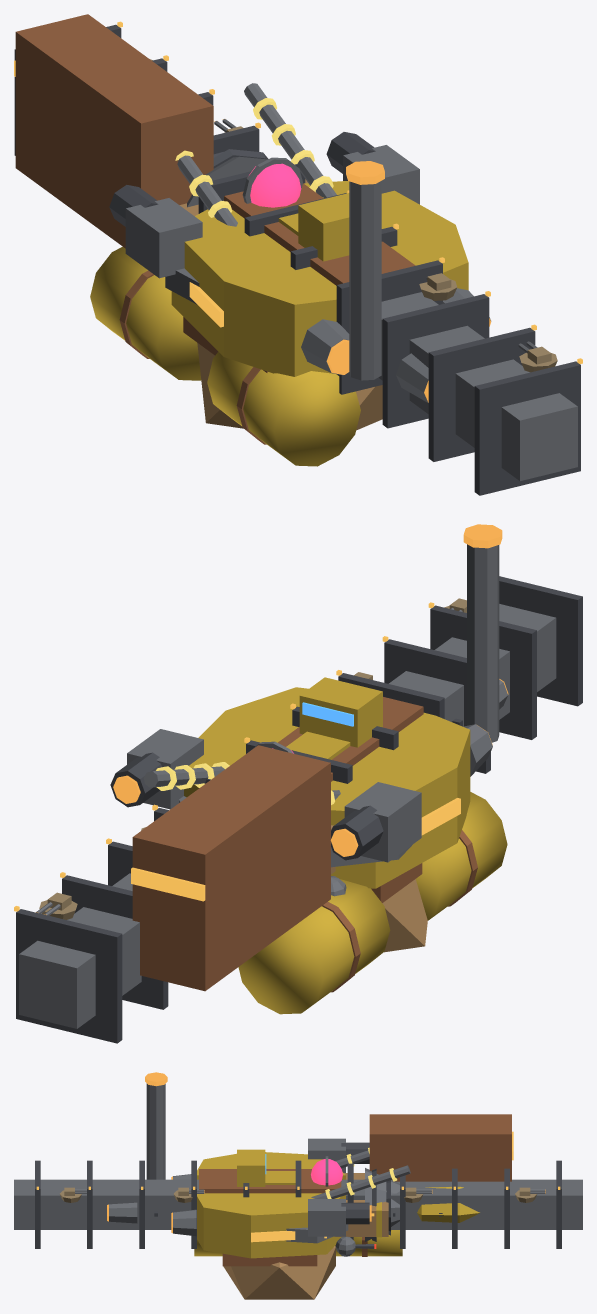
File: loc2.glb
The picture shows the model from 3 angles, top to bottom: view 1: azimuth 30°, elevation 25°; view 2: azimuth 150°, elevation 25°; view 3: azimuth 270°, elevation 25°; orthographic projection. The views are drawn at different scales.
Visible parts, largest first — view 1: refinery, excavator, part_tank0, part_tank1, part_launcherL, part_launcherR, driver, part_gunR, part_core.002, part_gunL, part_drill, hauler (+2 smaller); view 2: refinery, excavator, part_tank1, part_tank0, part_launcherL, part_launcherR, driver, part_gunR, part_turret3.001; view 3: refinery, excavator, driver, part_launcherR, hauler, part_launcherL, part_drill, part_pod0, part_gunR, part_tank1, part_core.002, part_laserR (+4 smaller).
Boxes of the visible parts, bbox=[...] form: refinery: bbox=[14, 14, 582, 495]; excavator: bbox=[171, 181, 491, 376]; part_tank0: bbox=[207, 352, 360, 466]; part_tank1: bbox=[90, 246, 201, 380]; part_launcherL: bbox=[109, 185, 202, 278]; part_launcherR: bbox=[326, 132, 419, 204]; driver: bbox=[165, 213, 382, 430]; part_gunR: bbox=[244, 83, 336, 198]; part_core.002: bbox=[242, 157, 302, 207]; part_gunL: bbox=[175, 150, 237, 226]; part_drill: bbox=[187, 149, 268, 207]; hauler: bbox=[396, 353, 428, 402]; refinery: bbox=[14, 524, 582, 1043]; excavator: bbox=[184, 677, 492, 902]; part_tank1: bbox=[238, 879, 390, 1014]; part_tank0: bbox=[416, 792, 507, 920]; part_launcherL: bbox=[330, 782, 421, 862]; part_launcherR: bbox=[110, 729, 203, 809]; driver: bbox=[179, 731, 427, 952]; part_gunR: bbox=[143, 762, 229, 790]; part_turret3.001: bbox=[36, 892, 77, 919]; refinery: bbox=[14, 1072, 582, 1248]; excavator: bbox=[171, 1149, 345, 1266]; driver: bbox=[223, 1171, 348, 1299]; part_launcherR: bbox=[308, 1199, 371, 1236]; hauler: bbox=[107, 1186, 479, 1223]; part_launcherL: bbox=[308, 1138, 369, 1172]; part_drill: bbox=[365, 1168, 399, 1241]; part_pod0: bbox=[335, 1200, 388, 1237]; part_gunR: bbox=[311, 1165, 410, 1198]; part_tank1: bbox=[335, 1230, 402, 1256]; part_core.002: bbox=[311, 1156, 342, 1186]; part_laserR: bbox=[335, 1236, 376, 1256].
Bounding box in the file's own units: 36 × 47.8 × 120.
